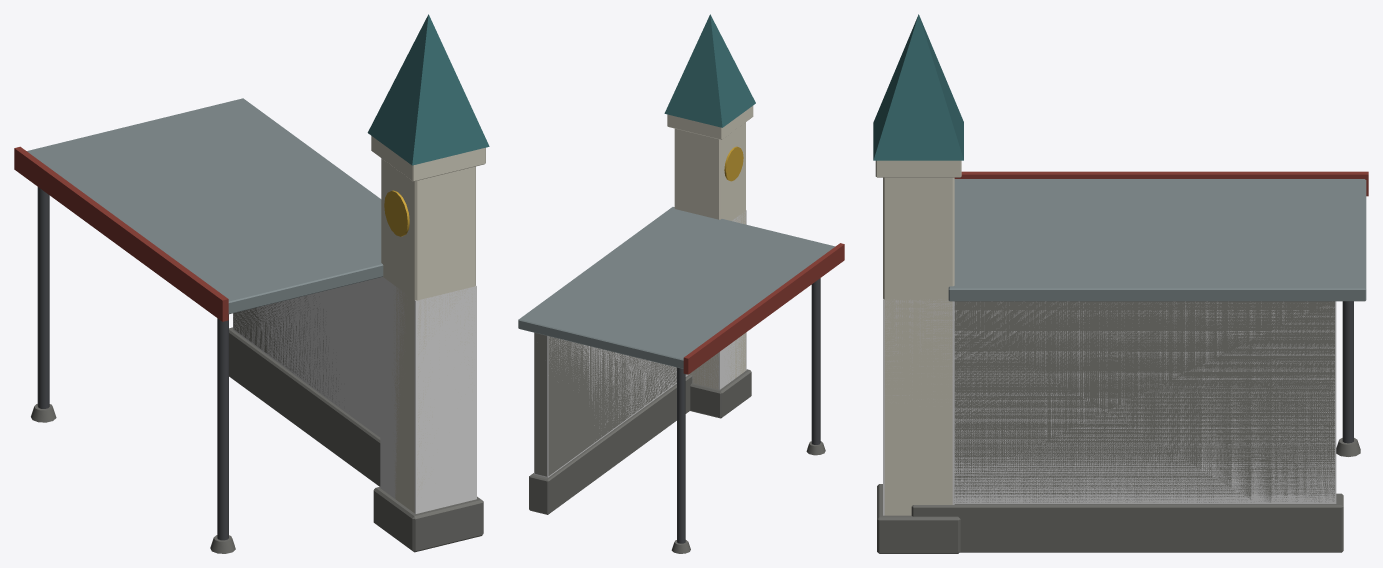
Rendered from stop-17.glb.
3 views of the same model, side by side, from view 1: azimuth 30°, elevation 25°; view 2: azimuth 150°, elevation 25°; view 3: azimuth 270°, elevation 25° (orthographic). The views are drawn at different scales.
Parts seen in each view (by area): view 1: 04_#7f8a8c, solid, 00_#d8d4c4, solid.001, 01_#6e6e6a, 02_paint0, 05_paint2, 07_#4c4e52, 06_#85857f, 03_#c9a13a; view 2: 04_#7f8a8c, 06_#85857f, 01_#6e6e6a, 00_#d8d4c4, 02_paint0, solid.001, 05_paint2, 07_#4c4e52, solid, 03_#c9a13a; view 3: 06_#85857f, 04_#7f8a8c, solid.001, 00_#d8d4c4, 01_#6e6e6a, 02_paint0, 05_paint2, solid, 07_#4c4e52.
Part boxes in pixels (box(x1,y1,x2,y2)): 04_#7f8a8c: box(27, 98, 383, 314); solid: box(380, 277, 476, 513); 00_#d8d4c4: box(371, 136, 485, 512); solid.001: box(233, 277, 380, 437); 01_#6e6e6a: box(31, 327, 483, 553); 02_paint0: box(367, 14, 489, 165); 05_paint2: box(14, 146, 228, 321); 07_#4c4e52: box(37, 187, 228, 540); 06_#85857f: box(233, 295, 339, 399); 03_#c9a13a: box(384, 190, 409, 236); 04_#7f8a8c: box(518, 207, 835, 368); 06_#85857f: box(535, 333, 686, 476); 01_#6e6e6a: box(529, 369, 825, 553); 00_#d8d4c4: box(667, 106, 753, 389); 02_paint0: box(664, 14, 755, 127); solid.001: box(534, 332, 688, 477); 05_paint2: box(683, 243, 844, 374); 07_#4c4e52: box(677, 278, 820, 543); solid: box(691, 210, 746, 389); 03_#c9a13a: box(724, 146, 743, 181); 06_#85857f: box(954, 301, 1334, 502); 04_#7f8a8c: box(948, 179, 1366, 301); solid.001: box(954, 301, 1336, 503); 00_#d8d4c4: box(875, 160, 961, 515); 01_#6e6e6a: box(877, 438, 1360, 553); 02_paint0: box(873, 14, 963, 160); 05_paint2: box(954, 171, 1368, 196); solid: box(883, 299, 954, 515); 07_#4c4e52: box(1342, 301, 1353, 443).
Bounding box in the file's own units: 2.27 × 4.84 × 4.15.
